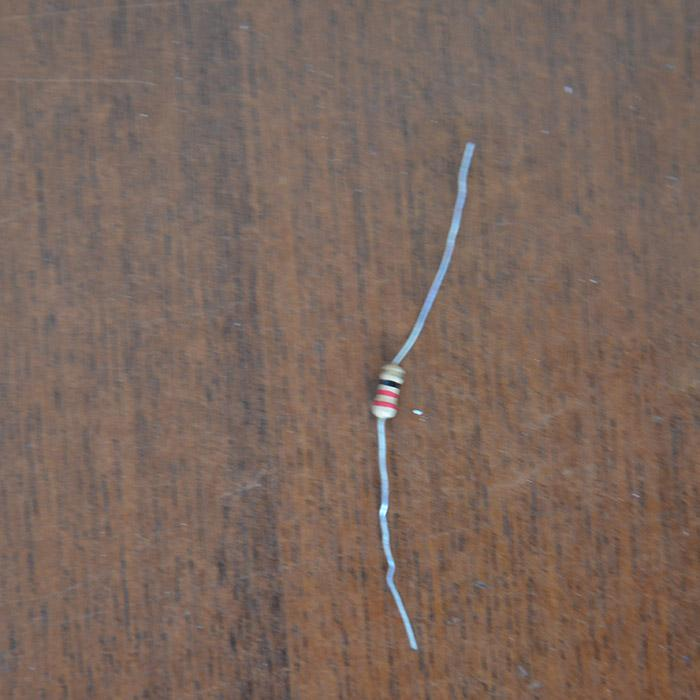resistor: (370, 363, 406, 418)
